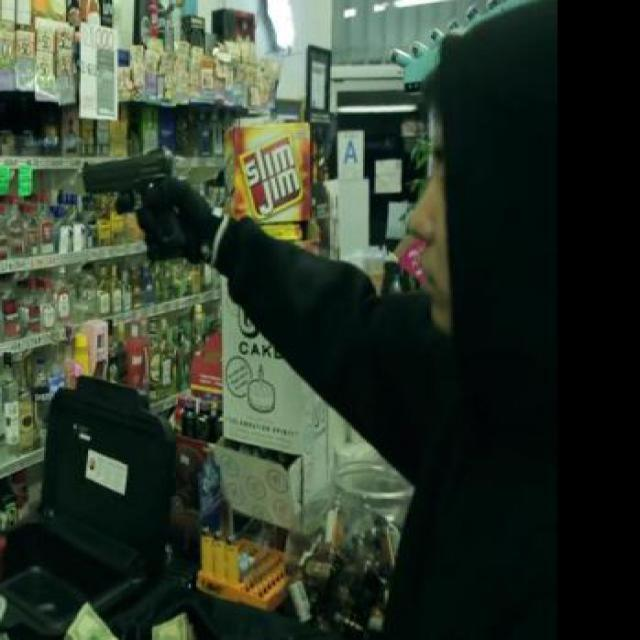weapon: (80, 146, 188, 262)
